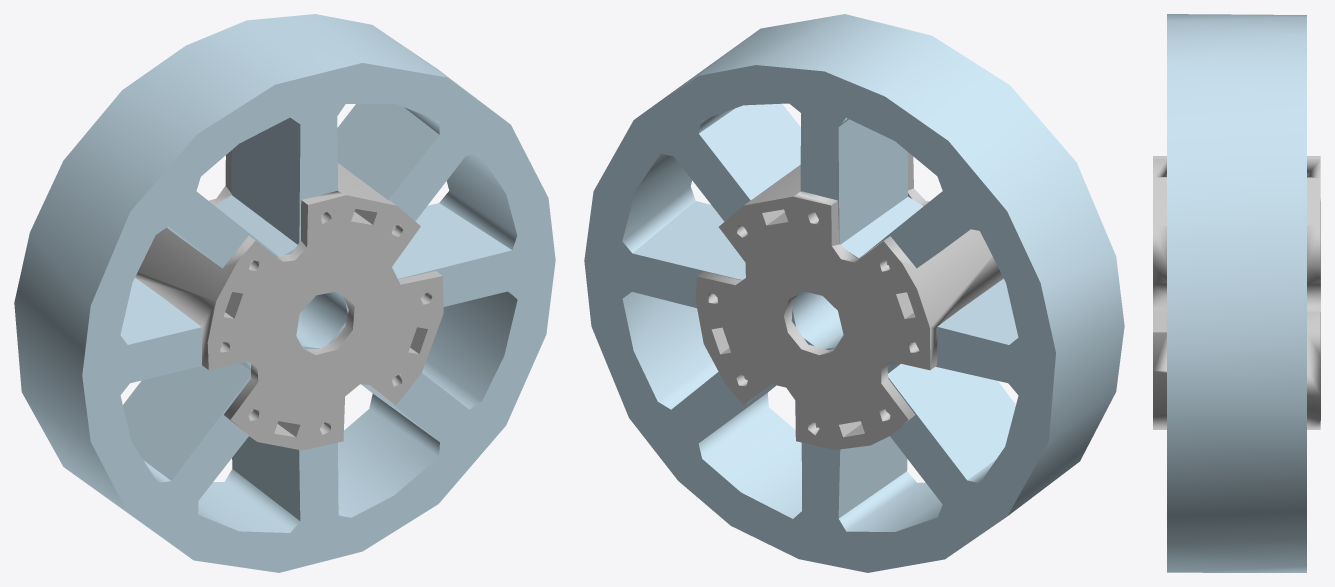
File: FourInSquish.fbx
The picture shows the model from 3 angles, left to right: view 1: azimuth 30°, elevation 25°; view 2: azimuth 150°, elevation 25°; view 3: azimuth 270°, elevation 25°; orthographic projection. The views are drawn at different scales.
Visible parts, largest first — view 1: Part 1, Part 2; view 2: Part 1, Part 2; view 3: Part 1, Part 2.
Boxes of the visible parts, x1,y1,x2,y2 form: Part 1: (14, 14, 555, 572); Part 2: (135, 150, 443, 450); Part 1: (584, 14, 1124, 572); Part 2: (695, 152, 1003, 449); Part 1: (1167, 14, 1306, 572); Part 2: (1153, 156, 1320, 429).
Size of the model in its own units: 10.16 by 10.16 by 3.05.
